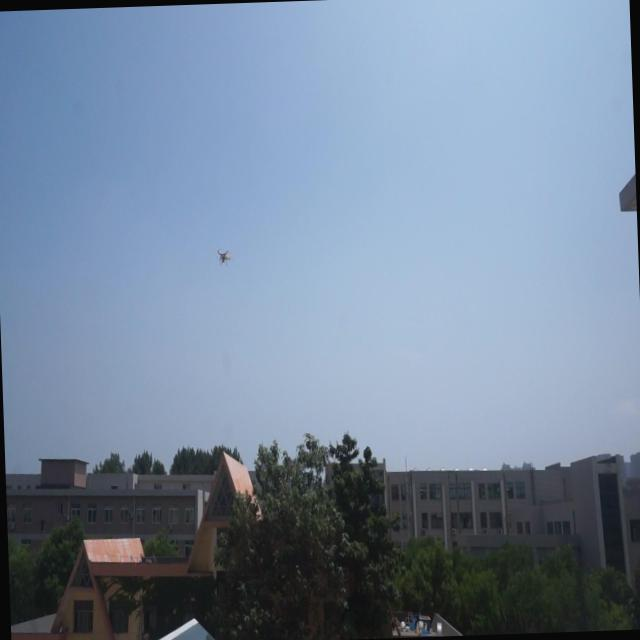drone: (216, 248, 231, 265)
